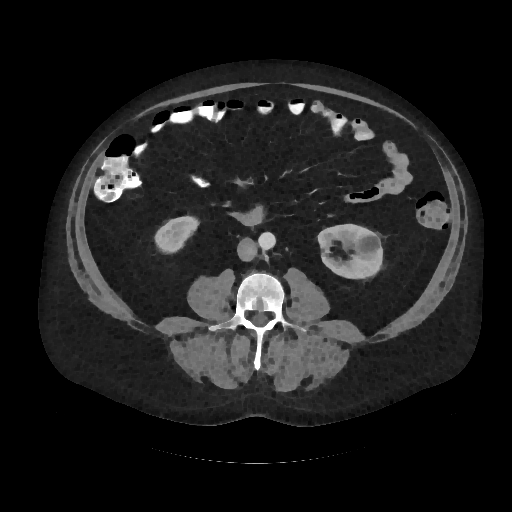Lesion: (352, 228, 382, 257)
